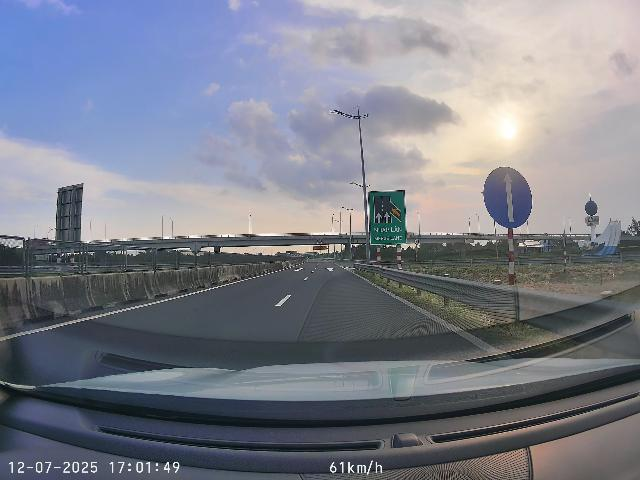301a-cac-xe-chi-duoc-di-thang: (483, 166, 533, 229)
